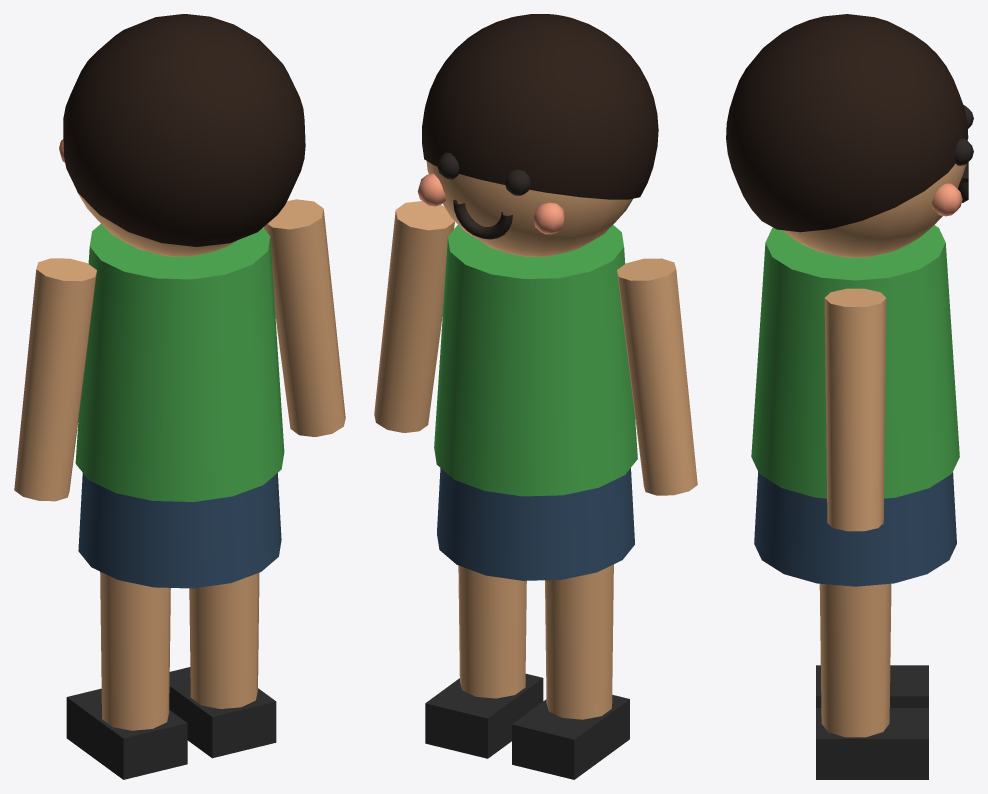
Rendered from person_4caf50.fbx.
3 views of the same model, side by side, from view 1: azimuth 30°, elevation 25°; view 2: azimuth 150°, elevation 25°; view 3: azimuth 270°, elevation 25° (orthographic). The views are drawn at different scales.
Visible parts, largest first — view 1: M__person_4caf50-body, M__person_4caf50-armL, M__person_4caf50-armR, M__person_4caf50-shinL, M__person_4caf50-shinR, M__person_4caf50-legL, M__person_4caf50-legR; view 2: M__person_4caf50-body, M__person_4caf50-armL, M__person_4caf50-armR, M__person_4caf50-shinL, M__person_4caf50-shinR, M__person_4caf50-legL, M__person_4caf50-legR; view 3: M__person_4caf50-body, M__person_4caf50-armR, M__person_4caf50-shinR, M__person_4caf50-legR, M__person_4caf50-shinL.
Boxes of the visible parts, box(x1,y1,x2,y2) form: M__person_4caf50-body: box(59, 14, 305, 588); M__person_4caf50-armL: box(14, 258, 96, 501); M__person_4caf50-armR: box(263, 199, 345, 436); M__person_4caf50-shinL: box(66, 621, 187, 779); M__person_4caf50-shinR: box(169, 600, 276, 758); M__person_4caf50-legL: box(100, 571, 170, 638); M__person_4caf50-legR: box(189, 573, 259, 616); M__person_4caf50-body: box(417, 14, 658, 580); M__person_4caf50-armL: box(617, 258, 697, 495); M__person_4caf50-armR: box(374, 201, 454, 432); M__person_4caf50-shinL: box(512, 613, 629, 779); M__person_4caf50-shinR: box(425, 591, 543, 758); M__person_4caf50-legL: box(545, 564, 613, 629); M__person_4caf50-legR: box(458, 565, 526, 608); M__person_4caf50-body: box(726, 14, 973, 586); M__person_4caf50-armR: box(824, 288, 886, 531); M__person_4caf50-shinR: box(816, 632, 928, 779); M__person_4caf50-legR: box(819, 583, 891, 645); M__person_4caf50-shinL: box(816, 665, 928, 707).
Bounding box in the file's own units: 0.6547 × 1.4 × 0.4399.
